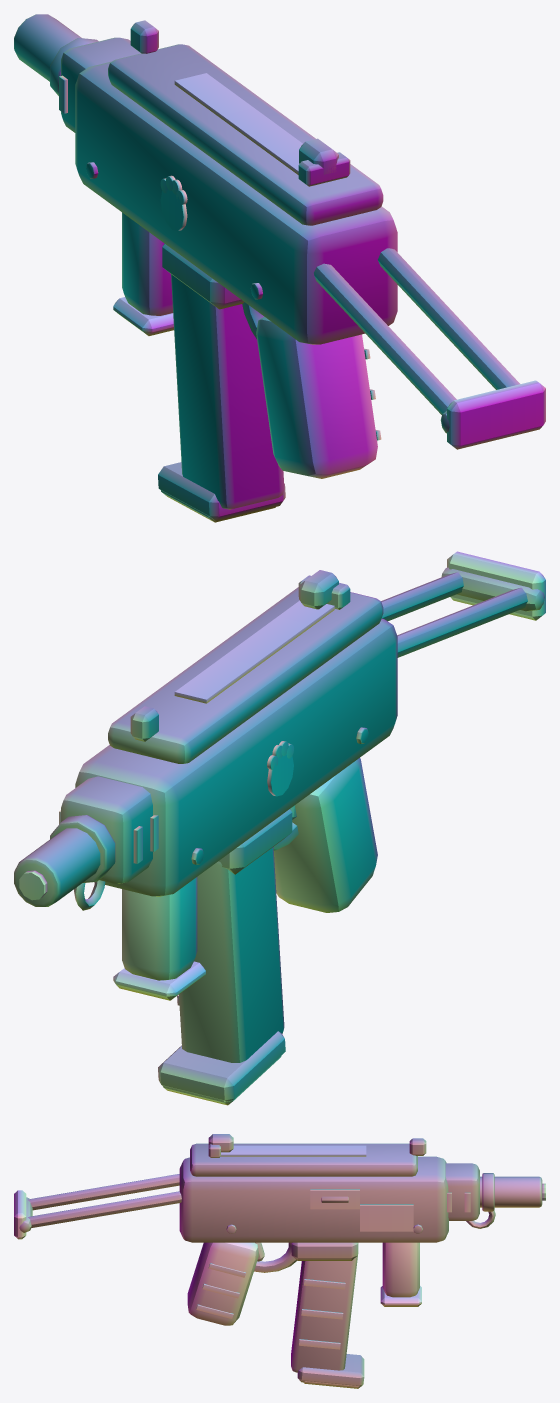
File: wpn_smg.glb
The picture shows the model from 3 angles, top to bottom: view 1: azimuth 30°, elevation 25°; view 2: azimuth 150°, elevation 25°; view 3: azimuth 270°, elevation 25°; orthographic projection. The views are drawn at different scales.
Parts seen in each view (by area): view 1: wpn_smg_mesh; view 2: wpn_smg_mesh; view 3: wpn_smg_mesh.
Part boxes in pixels (bbox=[...]): wpn_smg_mesh: bbox=[14, 14, 545, 522]; wpn_smg_mesh: bbox=[14, 551, 545, 1105]; wpn_smg_mesh: bbox=[14, 1134, 545, 1388].
Bounding box in the file's own units: 0.0356 × 0.1303 × 0.2568.
